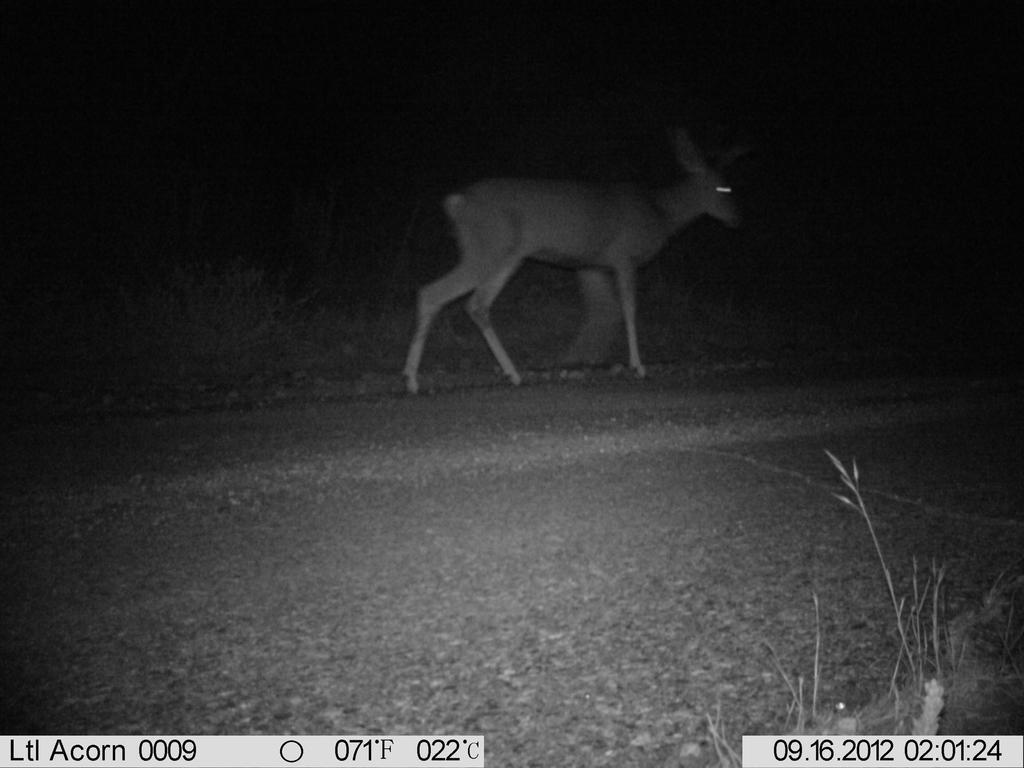deer: (389, 123, 775, 392)
